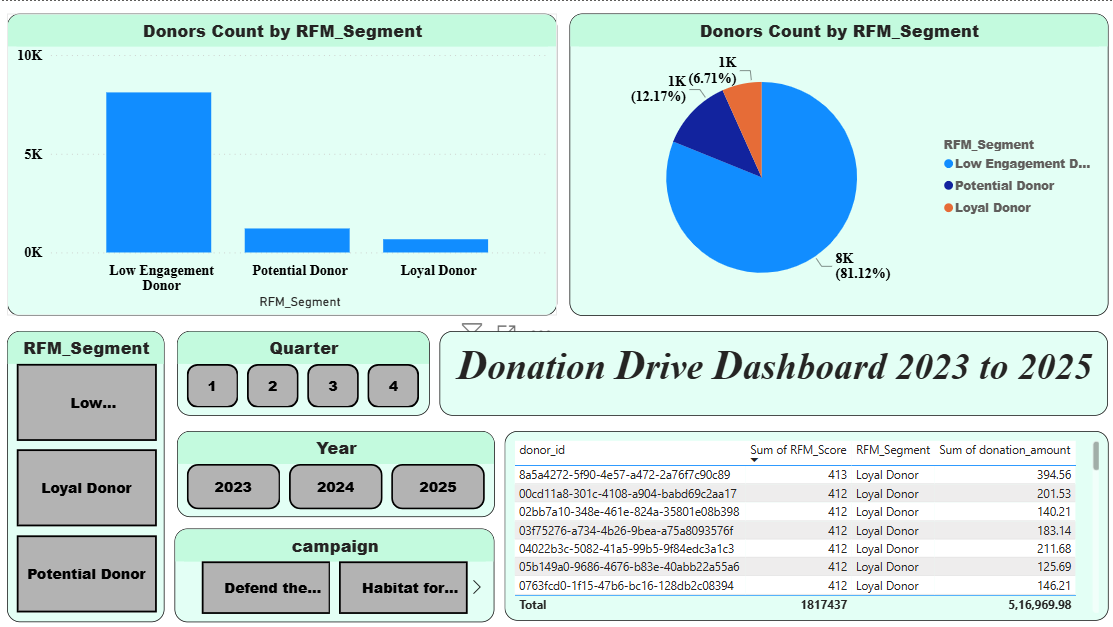

The page's visual inventory and layout, read from the dashboard file:
{"tool":"powerbi","page":{"name":"Page 3","canvas":[1280,720],"ordinal":2},"visuals":[{"type":"pieChart","fields":{"Category":["animal_charity_donation_records.RFM_Segment"],"Y":["animal_charity_donation_records.Donors Count"]},"box":[654.3,14.3,615.7,345.7],"z":0},{"type":"tableEx","fields":{"Values":["animal_charity_donation_records.donor_id","Sum(animal_charity_donation_records.RFM_Score)","animal_charity_donation_records.RFM_Segment","Sum(animal_charity_donation_records.donation_amount)"]},"box":[580,491.4,690,217.1],"z":1000},{"type":"advancedSlicerVisual","fields":{"Values":["animal_charity_donation_records.RFM_Segment"]},"box":[11.4,377.1,180,332.9],"z":2000},{"type":"clusteredColumnChart","fields":{"Category":["animal_charity_donation_records.RFM_Segment"],"Y":["animal_charity_donation_records.Donors Count"]},"box":[11.4,14.3,628.6,345.7],"z":3000},{"type":"advancedSlicerVisual","fields":{"Values":["animal_charity_donation_records.donation_date.Variation.Date Hierarchy.Year"]},"box":[205.7,491.4,362.9,98.6],"z":4000},{"type":"advancedSlicerVisual","fields":{"Values":["animal_charity_donation_records.Quarter"]},"box":[205.7,377.1,288.6,97.1],"z":5000},{"type":"textbox","box":[505.7,377.1,764.3,97.1],"z":6000},{"type":"advancedSlicerVisual","fields":{"Values":["animal_charity_donation_records.campaign"]},"box":[202.9,602.9,365.7,107.1],"z":7000}]}

Visuals, with their boxes in screenshot pixels (x1, y1, x2, y2), scaled from the page's 1280x720 canvas onto the 1113x627 screenshot:
pieChart - animal_charity_donation_records.RFM_Segment x animal_charity_donation_records.Donors Count: (569, 12, 1104, 314)
tableEx - animal_charity_donation_records.donor_id x Sum(animal_charity_donation_records.RFM_Score): (504, 428, 1104, 617)
advancedSlicerVisual - animal_charity_donation_records.RFM_Segment: (10, 328, 166, 618)
clusteredColumnChart - animal_charity_donation_records.RFM_Segment x animal_charity_donation_records.Donors Count: (10, 12, 556, 314)
advancedSlicerVisual - animal_charity_donation_records.donation_date.Variation.Date Hierarchy.Year: (179, 428, 494, 514)
advancedSlicerVisual - animal_charity_donation_records.Quarter: (179, 328, 430, 413)
textbox: (440, 328, 1104, 413)
advancedSlicerVisual - animal_charity_donation_records.campaign: (176, 525, 494, 618)
